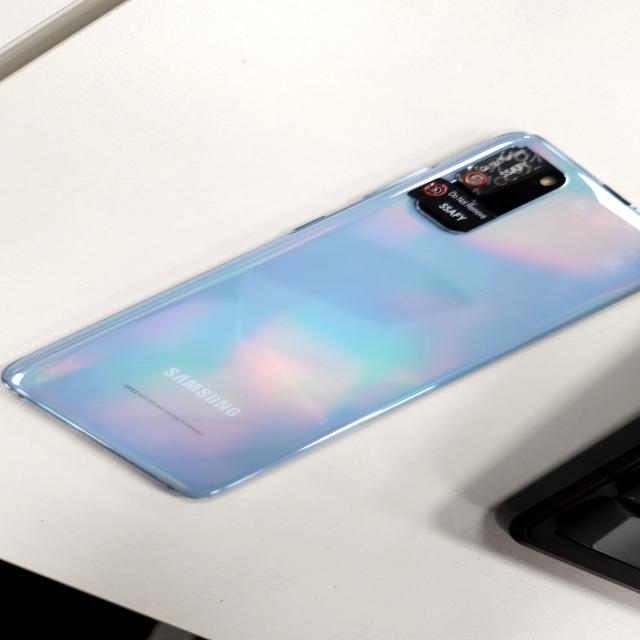phone: (0, 133, 640, 499)
removed_sticker: (456, 146, 548, 194)
sticker: (408, 179, 497, 232)
